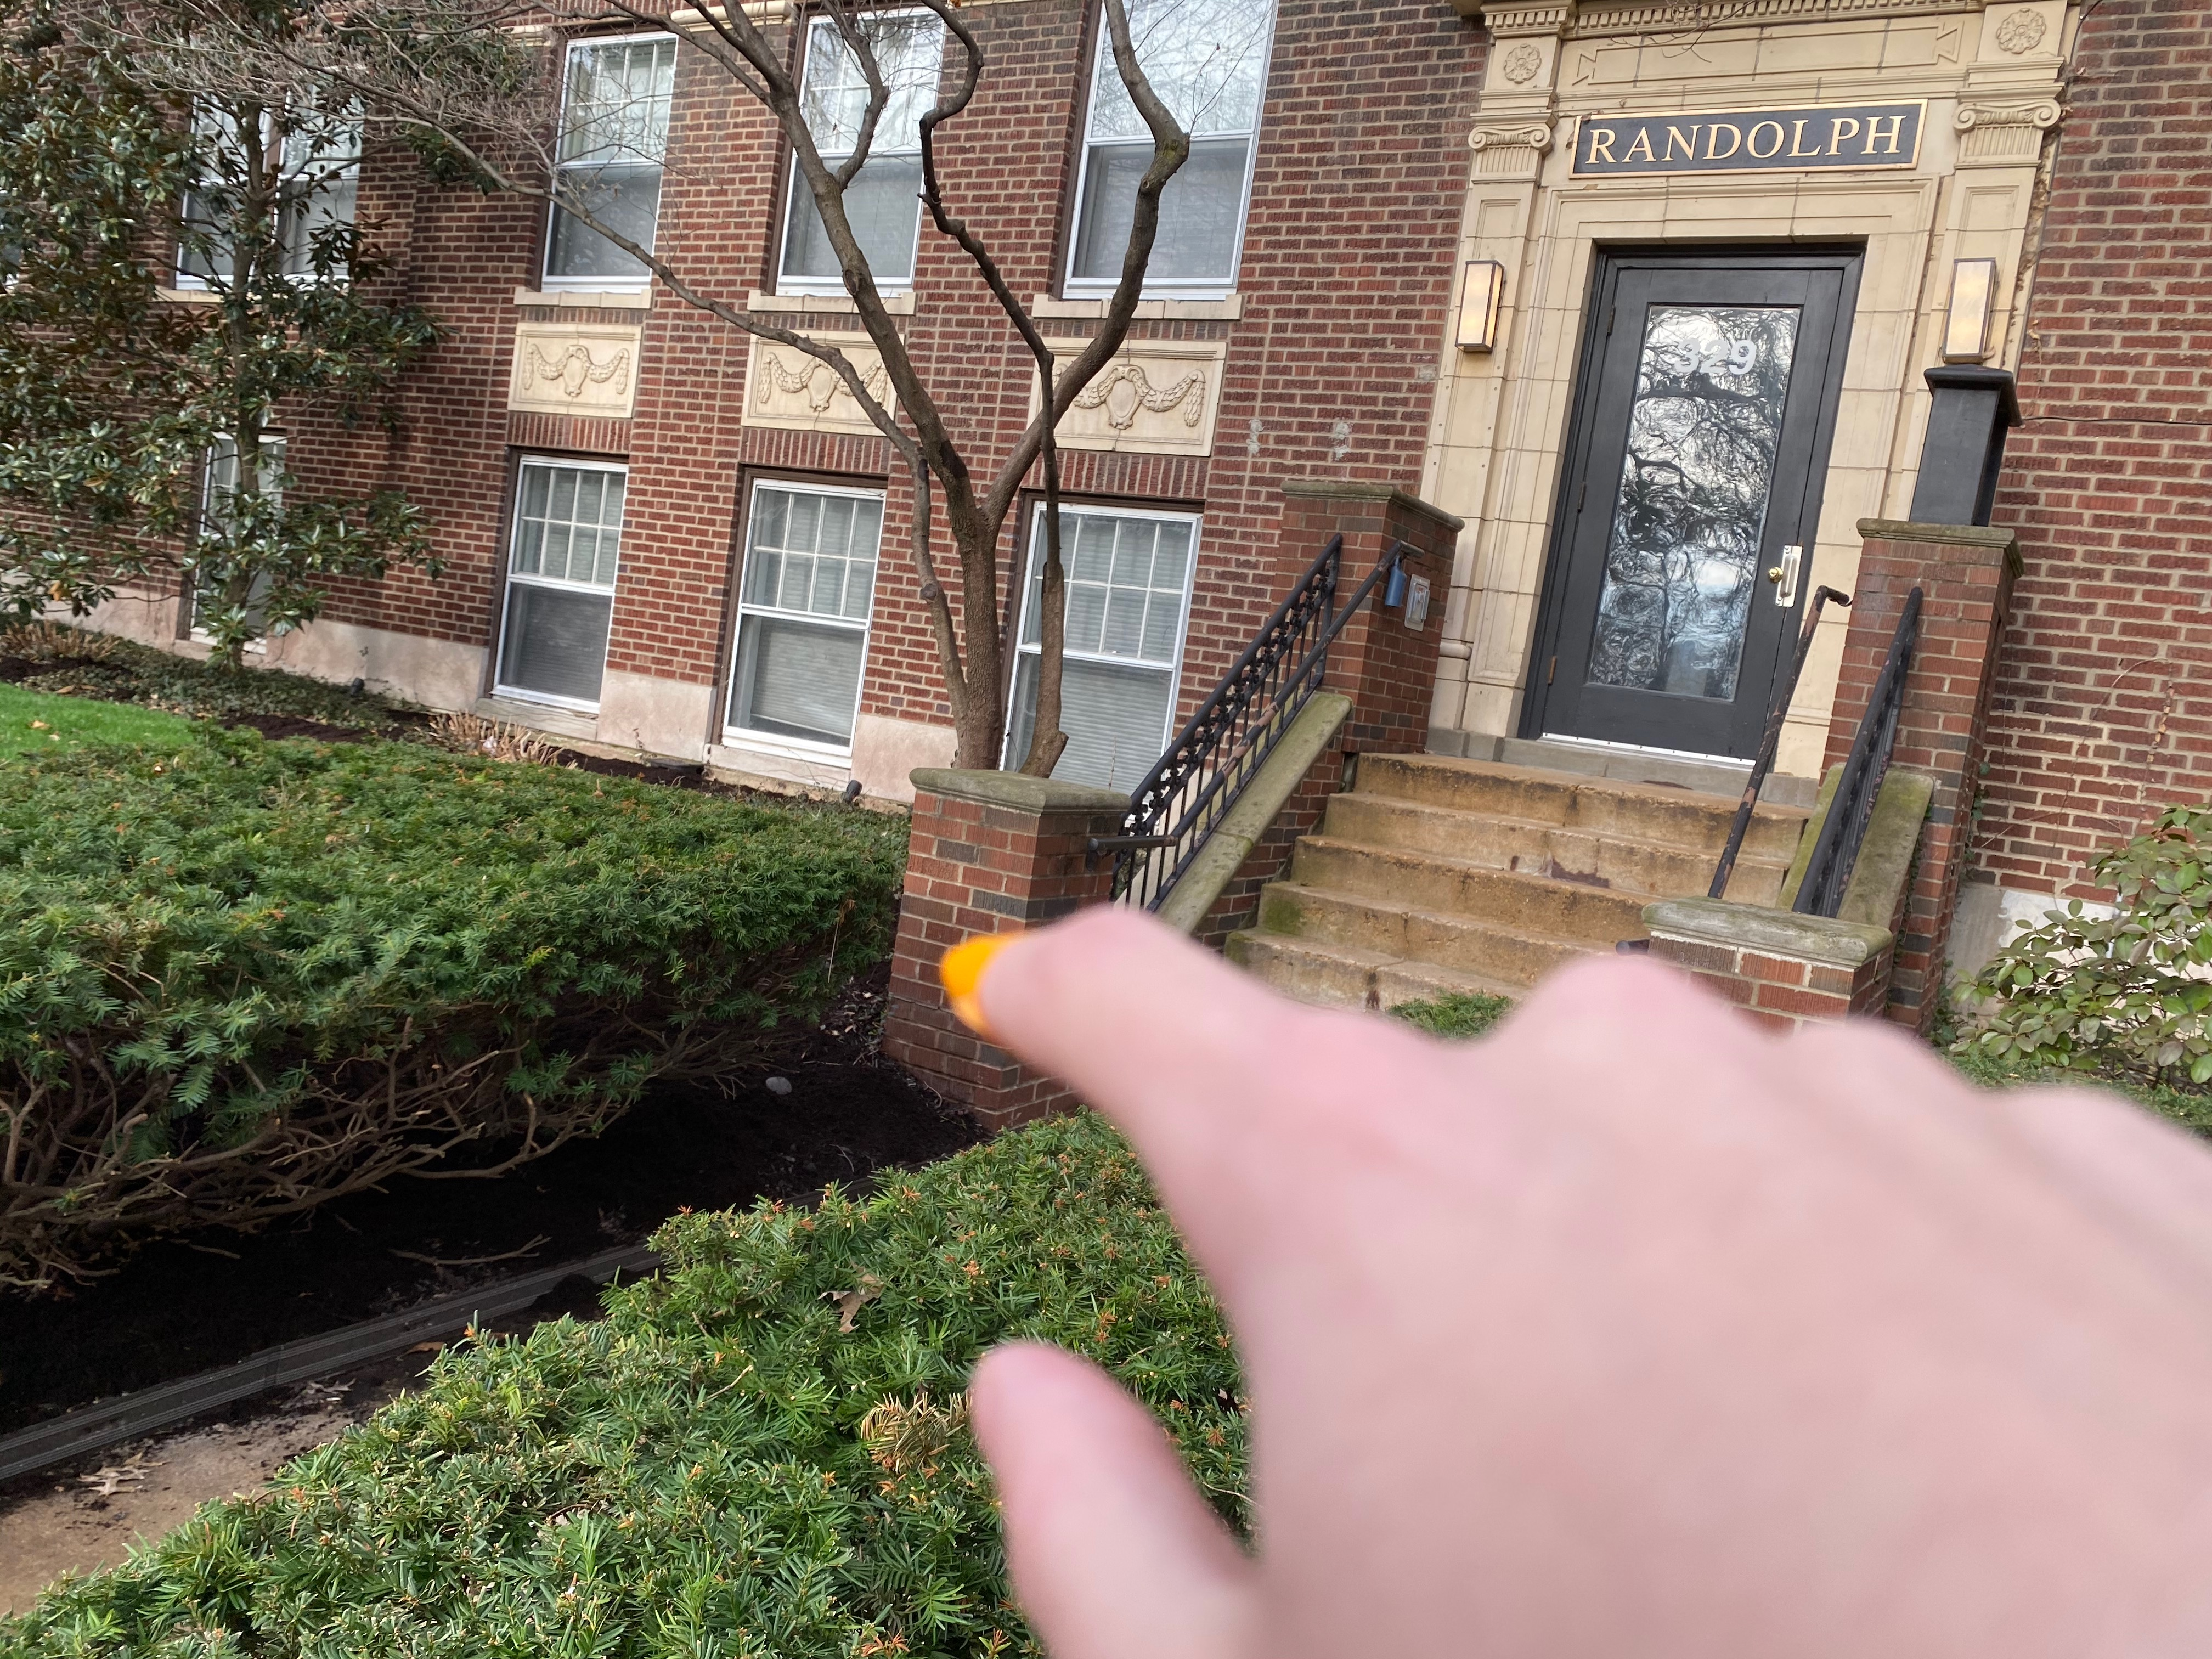fingertip: (909, 917, 1092, 1072)
